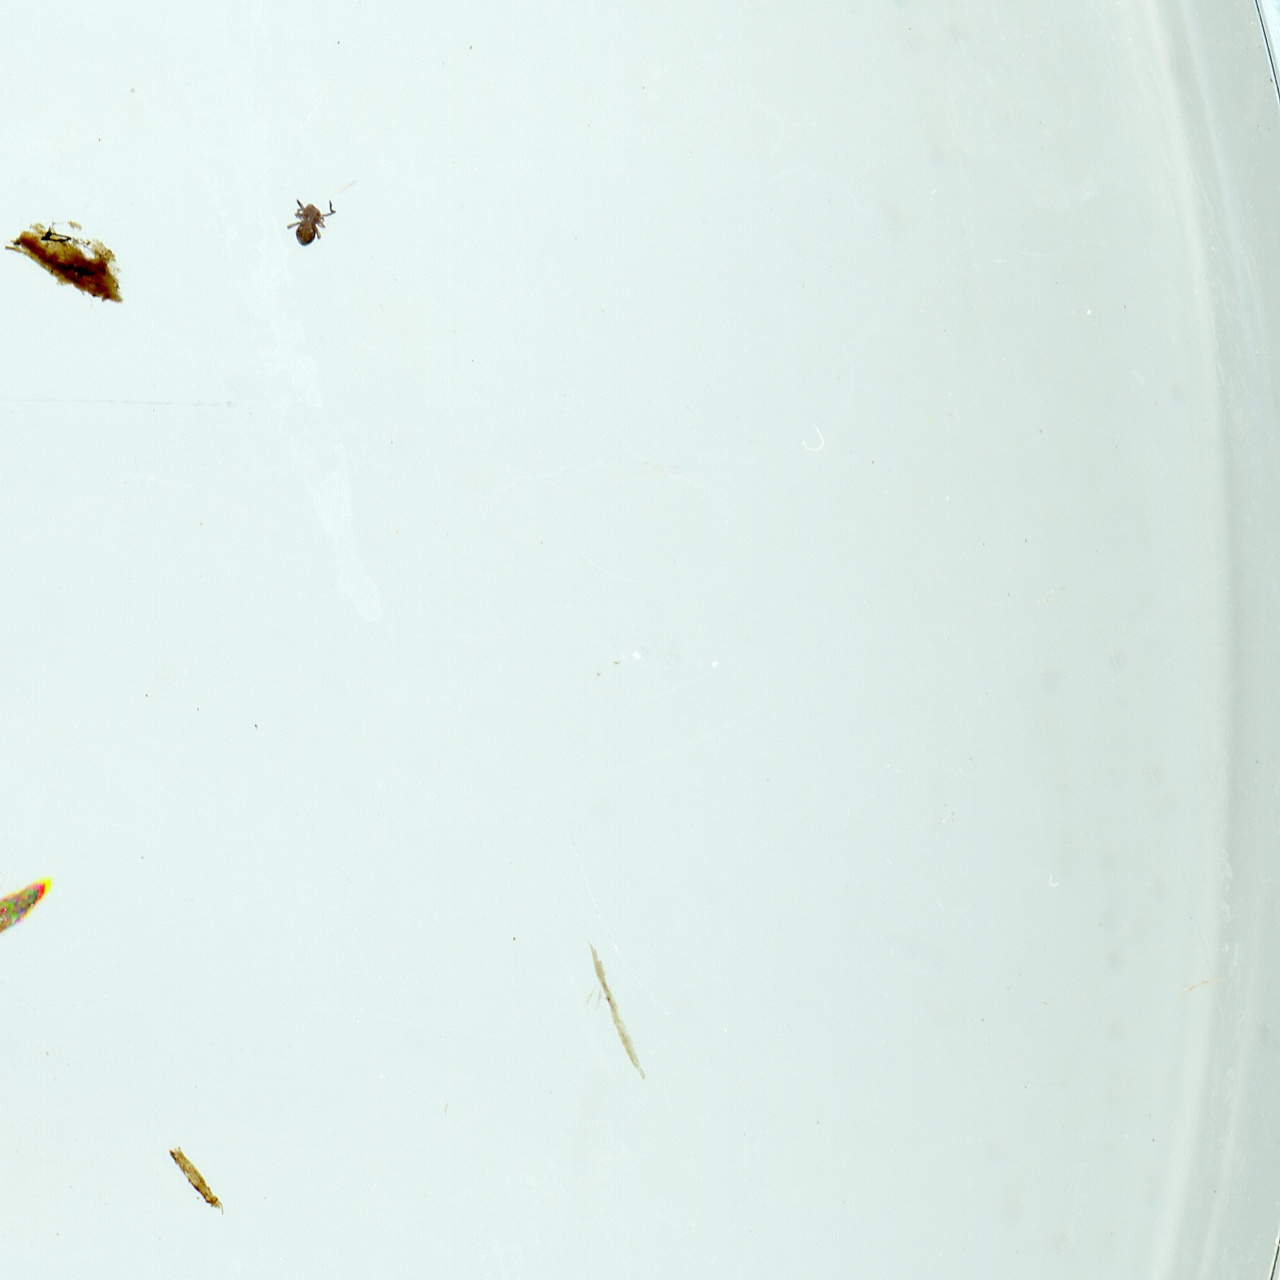arthropod: (282, 196, 339, 250)
